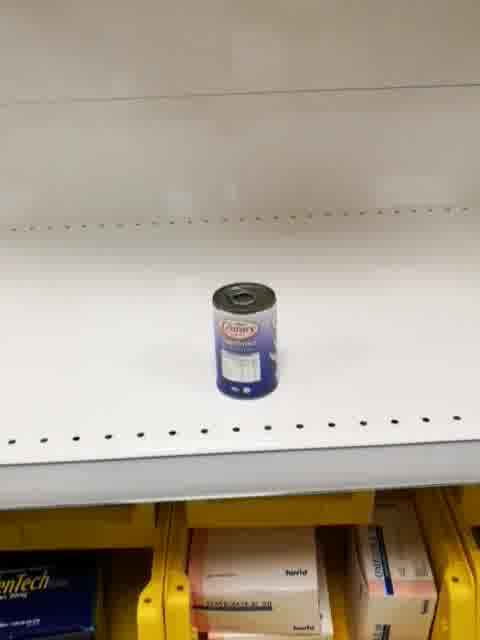sardine: (210, 281, 280, 401)
